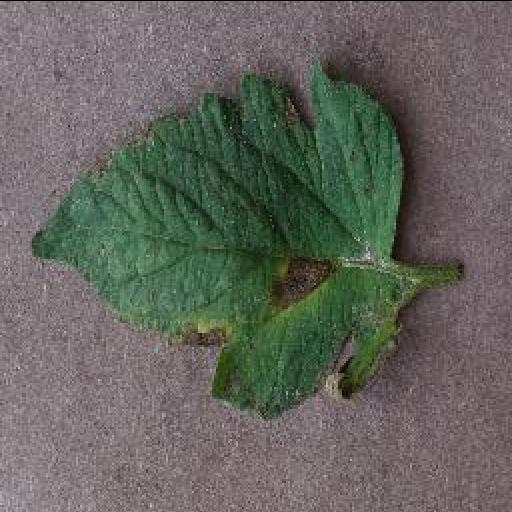disease_tomato: (28, 57, 414, 418)
